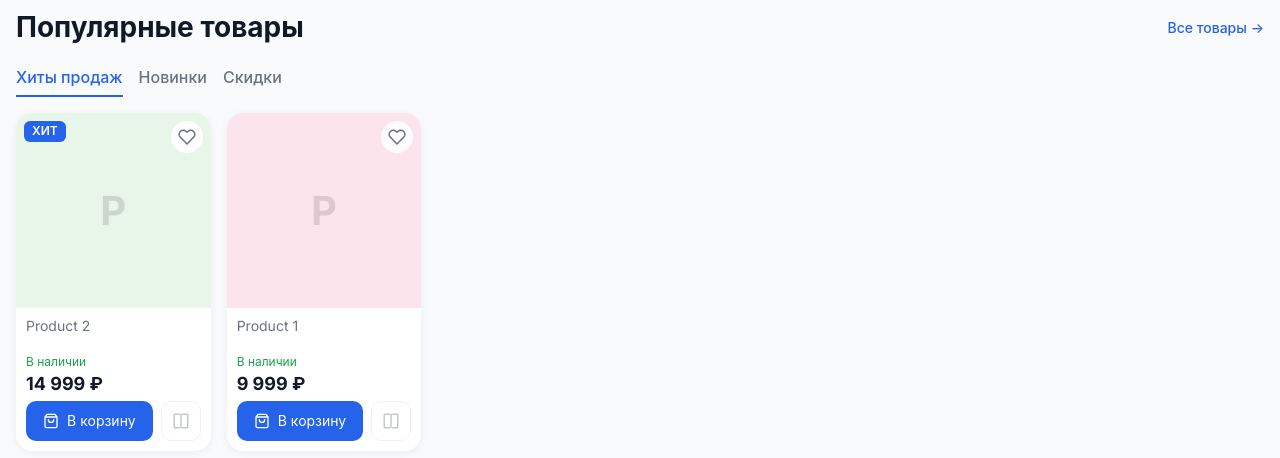
Test: PopularProducts (D-08) › таб «Скидки» показывает честный empty-state без запроса и фейковых данных (D-04)
The image size is (1280, 458).
What coordinates should you click on to do the following:
click the tab with test id "products-tab-sale"
I would click on:
 (252, 78)
Its box is [223,59,282,97].
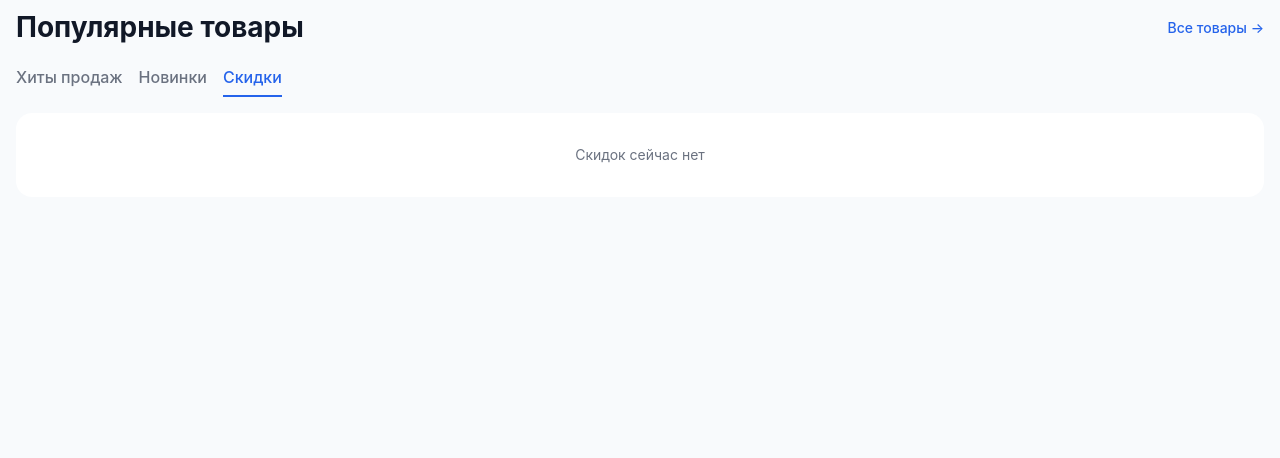
Check: the text with test id "products-tab-sale-empty" reads "Скидок сейчас нет", box [575,146,705,163]
